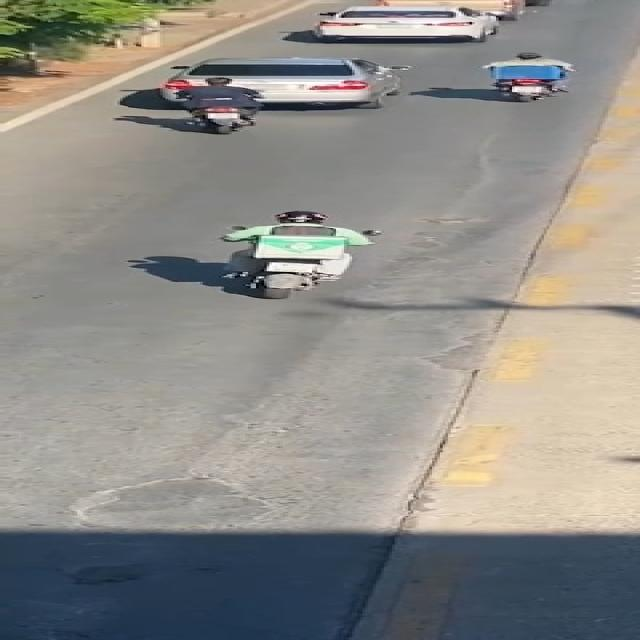car: (152, 52, 419, 112), (286, 8, 518, 46)
